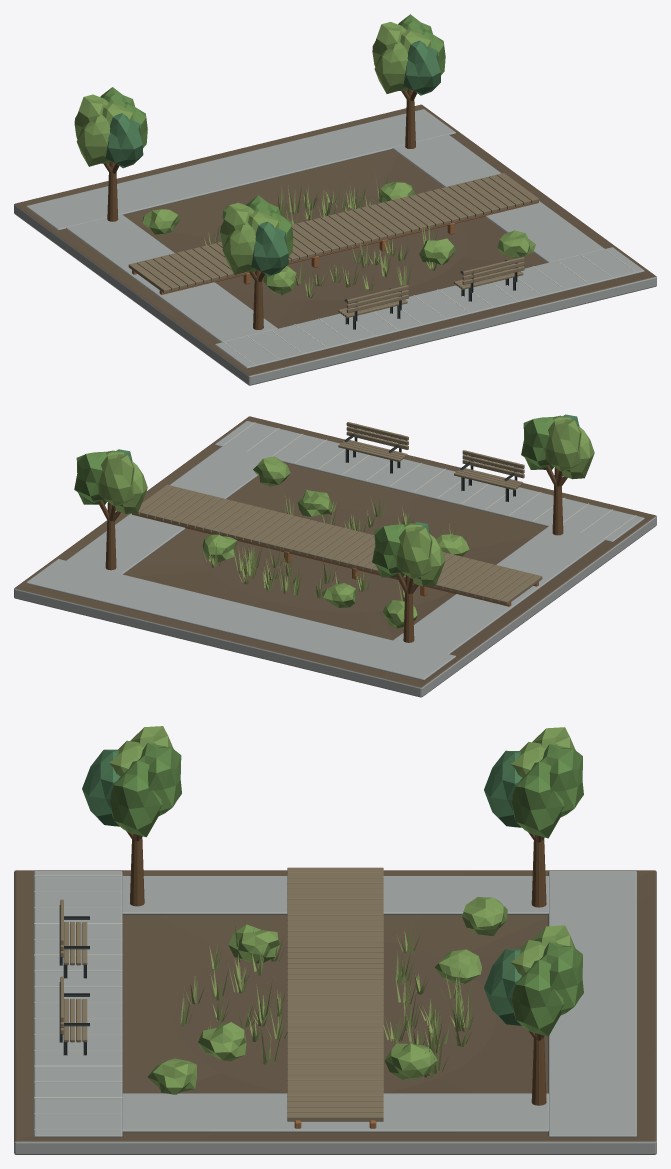
File: ECO_RAIN_GARDEN.fbx
3 views of the same model, one above another, from view 1: azimuth 30°, elevation 25°; view 2: azimuth 150°, elevation 25°; view 3: azimuth 270°, elevation 25° (orthographic). The views are drawn at different scales.
Parts seen in each view (by area): view 1: UNITY_ASSET_ECO_RAIN_GARDEN; view 2: UNITY_ASSET_ECO_RAIN_GARDEN; view 3: UNITY_ASSET_ECO_RAIN_GARDEN.
Boxes of the visible parts, x1=… form: UNITY_ASSET_ECO_RAIN_GARDEN: x1=14, y1=14, x2=656, y2=385; UNITY_ASSET_ECO_RAIN_GARDEN: x1=14, y1=414, x2=656, y2=697; UNITY_ASSET_ECO_RAIN_GARDEN: x1=14, y1=726, x2=656, y2=1154.
Size of the model in its own units: 12 by 3.73 by 12.
